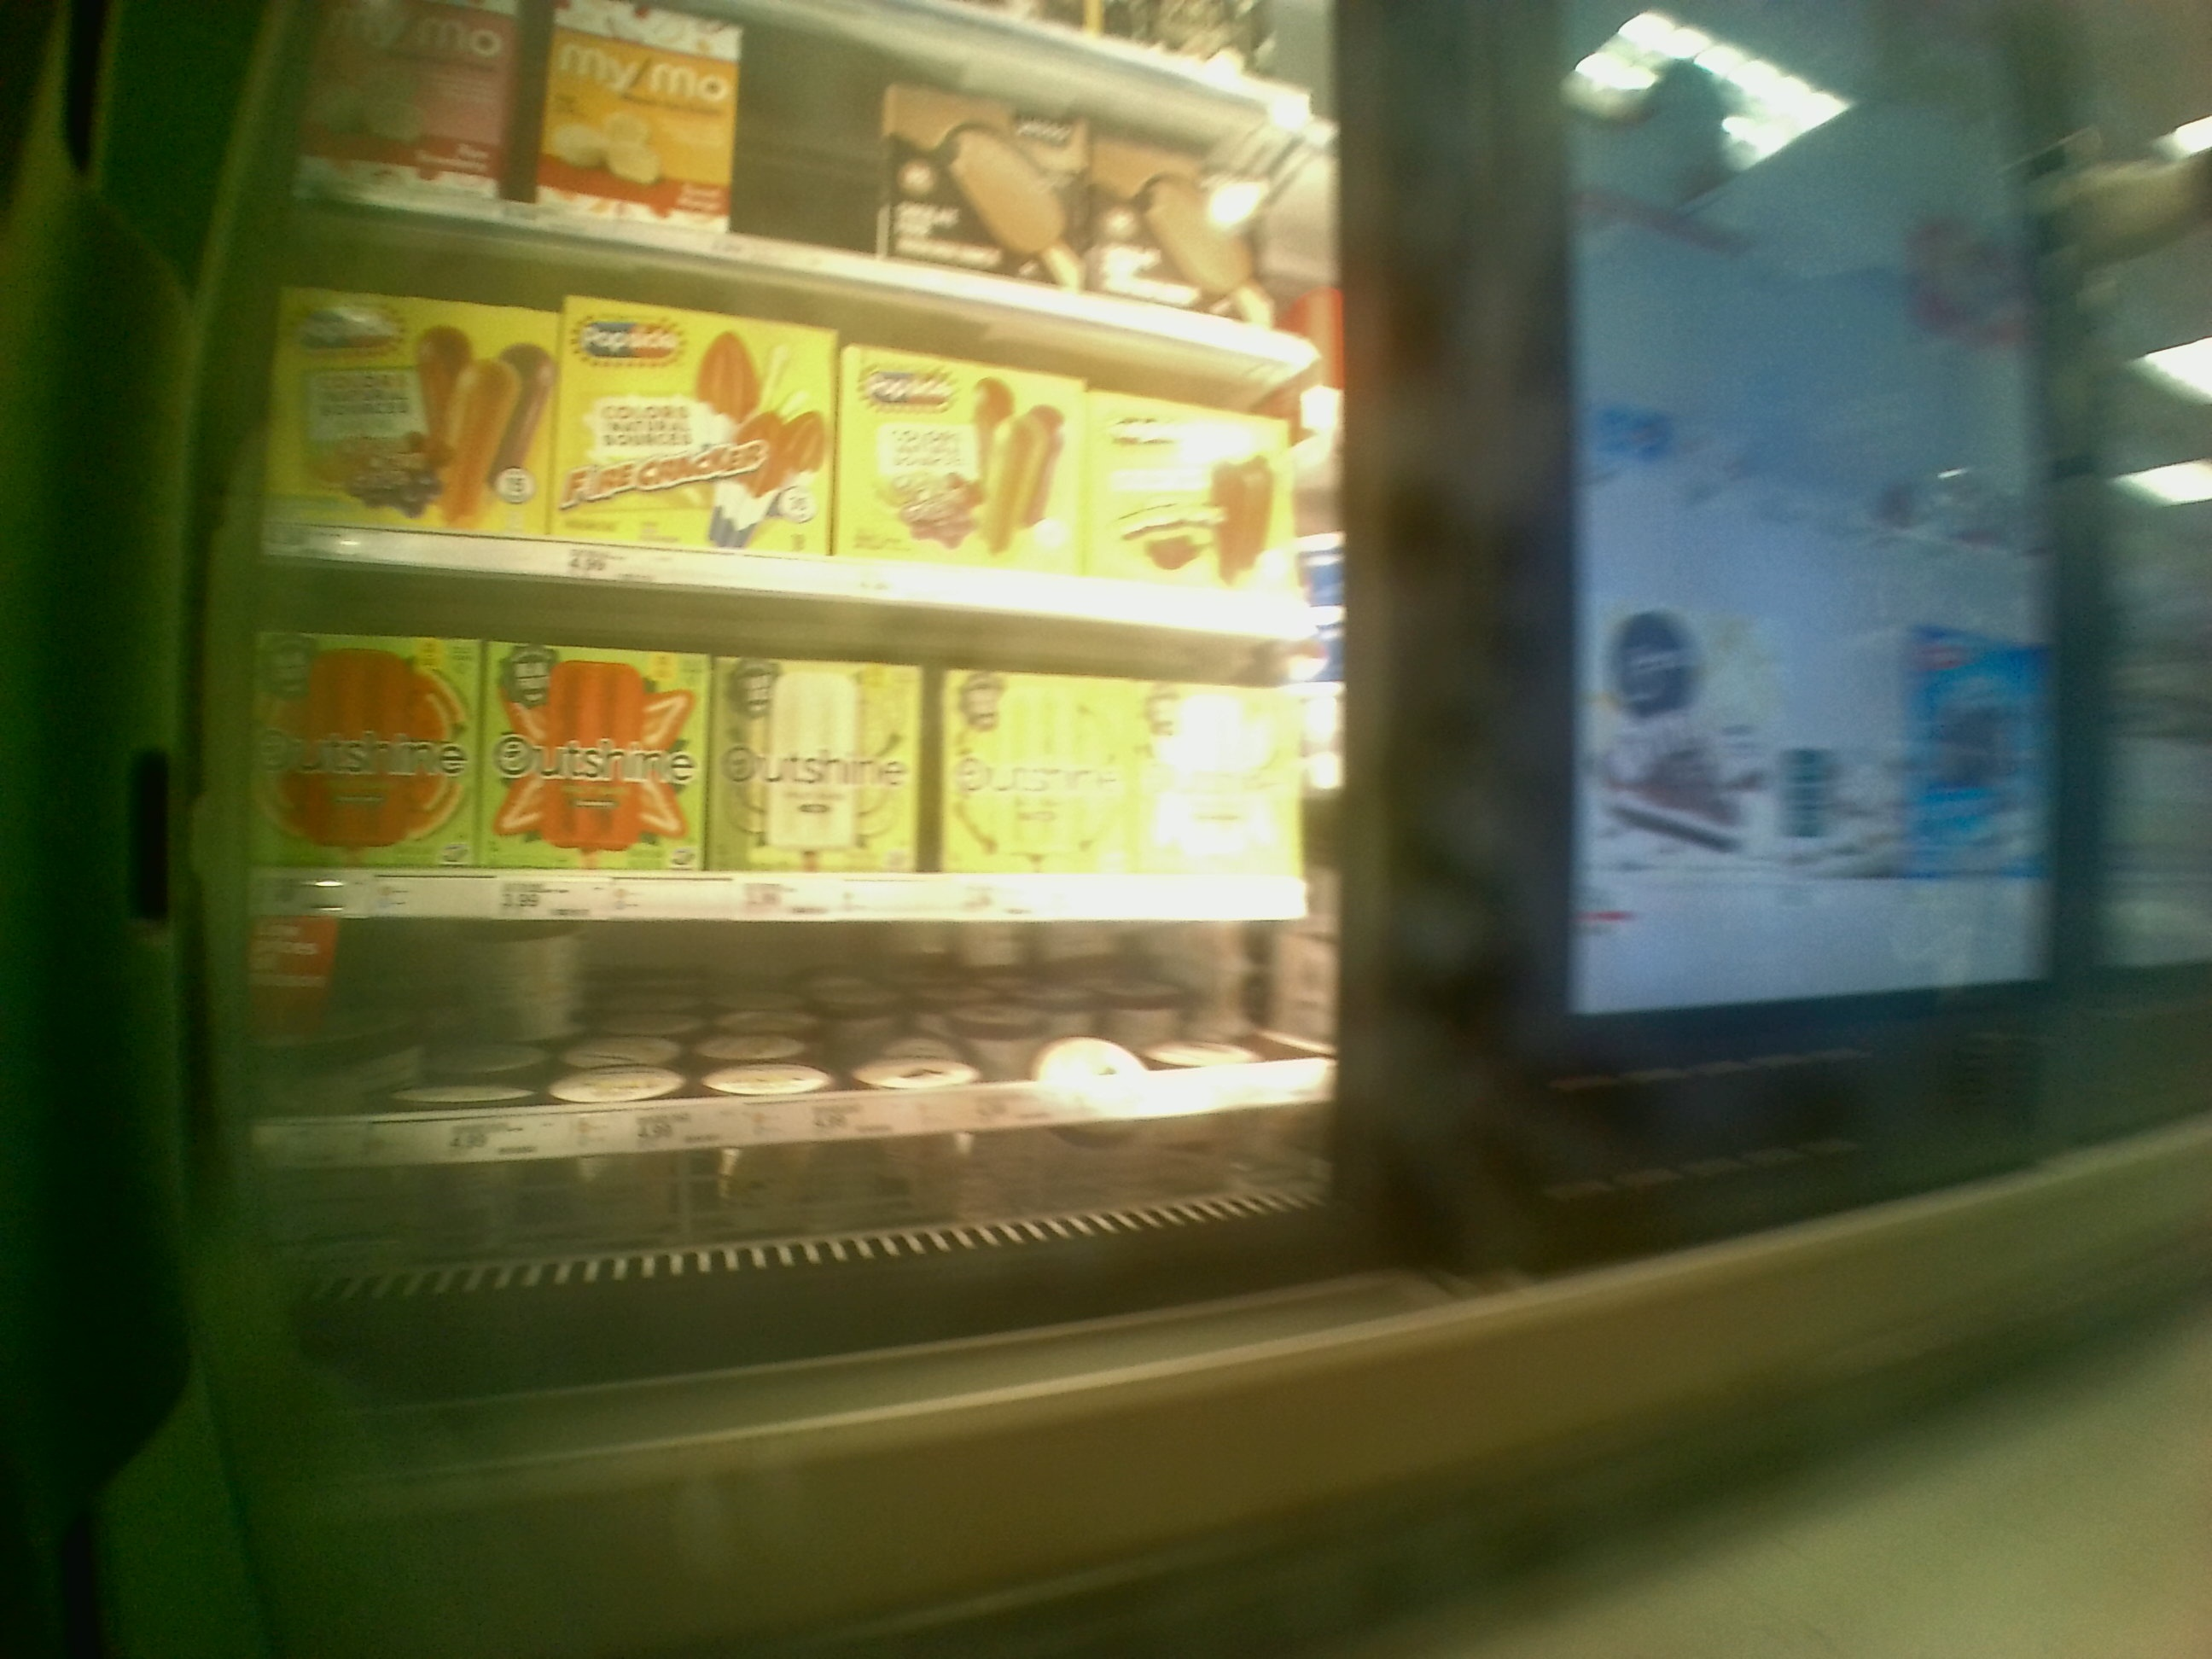shelf: (289, 181, 1313, 647), (261, 561, 1298, 924), (268, 929, 1331, 1206)
